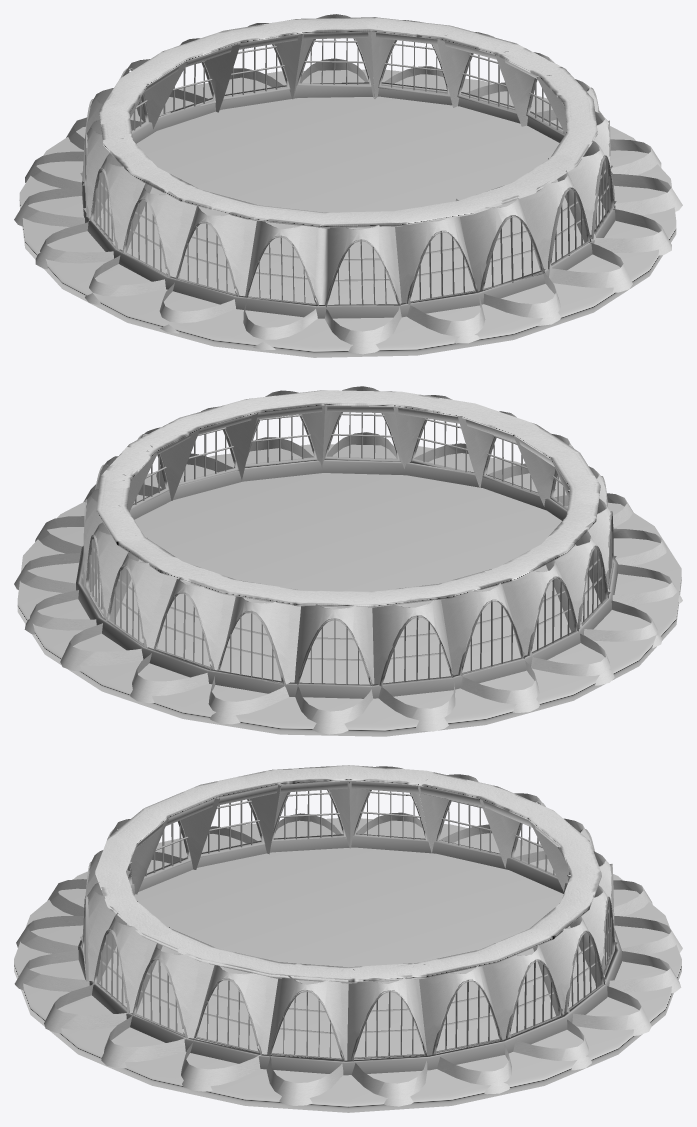
Rendered from Wall1.fbx.
3 views of the same model, one above another, from view 1: azimuth 30°, elevation 25°; view 2: azimuth 150°, elevation 25°; view 3: azimuth 270°, elevation 25° (orthographic).
Visible parts, largest first — view 1: polySurface185, pasted__group11_pasted__group8_pasted__pasted__polySurface2, polySurface220, pPipe1; view 2: polySurface185, pasted__group11_pasted__group8_pasted__pasted__polySurface2, polySurface220, pPipe1; view 3: polySurface185, pasted__group11_pasted__group8_pasted__pasted__polySurface2, polySurface220, pPipe1.
Part boxes in pixels (bbox=[...]): polySurface185: bbox=[19, 69, 676, 357]; pasted__group11_pasted__group8_pasted__pasted__polySurface2: bbox=[14, 14, 682, 354]; polySurface220: bbox=[99, 17, 597, 228]; pPipe1: bbox=[82, 82, 615, 318]; polySurface185: bbox=[17, 444, 681, 736]; pasted__group11_pasted__group8_pasted__pasted__polySurface2: bbox=[14, 386, 682, 734]; polySurface220: bbox=[96, 390, 600, 607]; pPipe1: bbox=[76, 459, 617, 698]; polySurface185: bbox=[14, 818, 681, 1112]; pasted__group11_pasted__group8_pasted__pasted__polySurface2: bbox=[14, 766, 682, 1106]; polySurface220: bbox=[95, 765, 601, 983]; pPipe1: bbox=[78, 833, 621, 1075].
Bounding box in the file's own units: 1386 × 231 × 1387.
